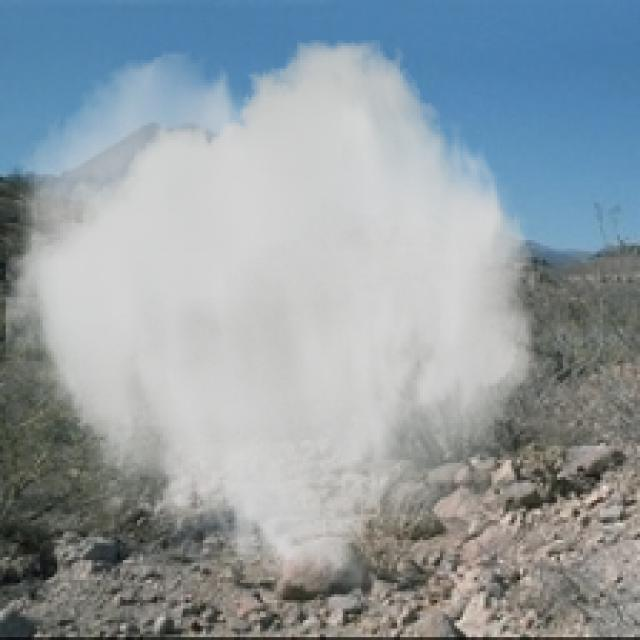Smoke: (6, 40, 543, 603)
